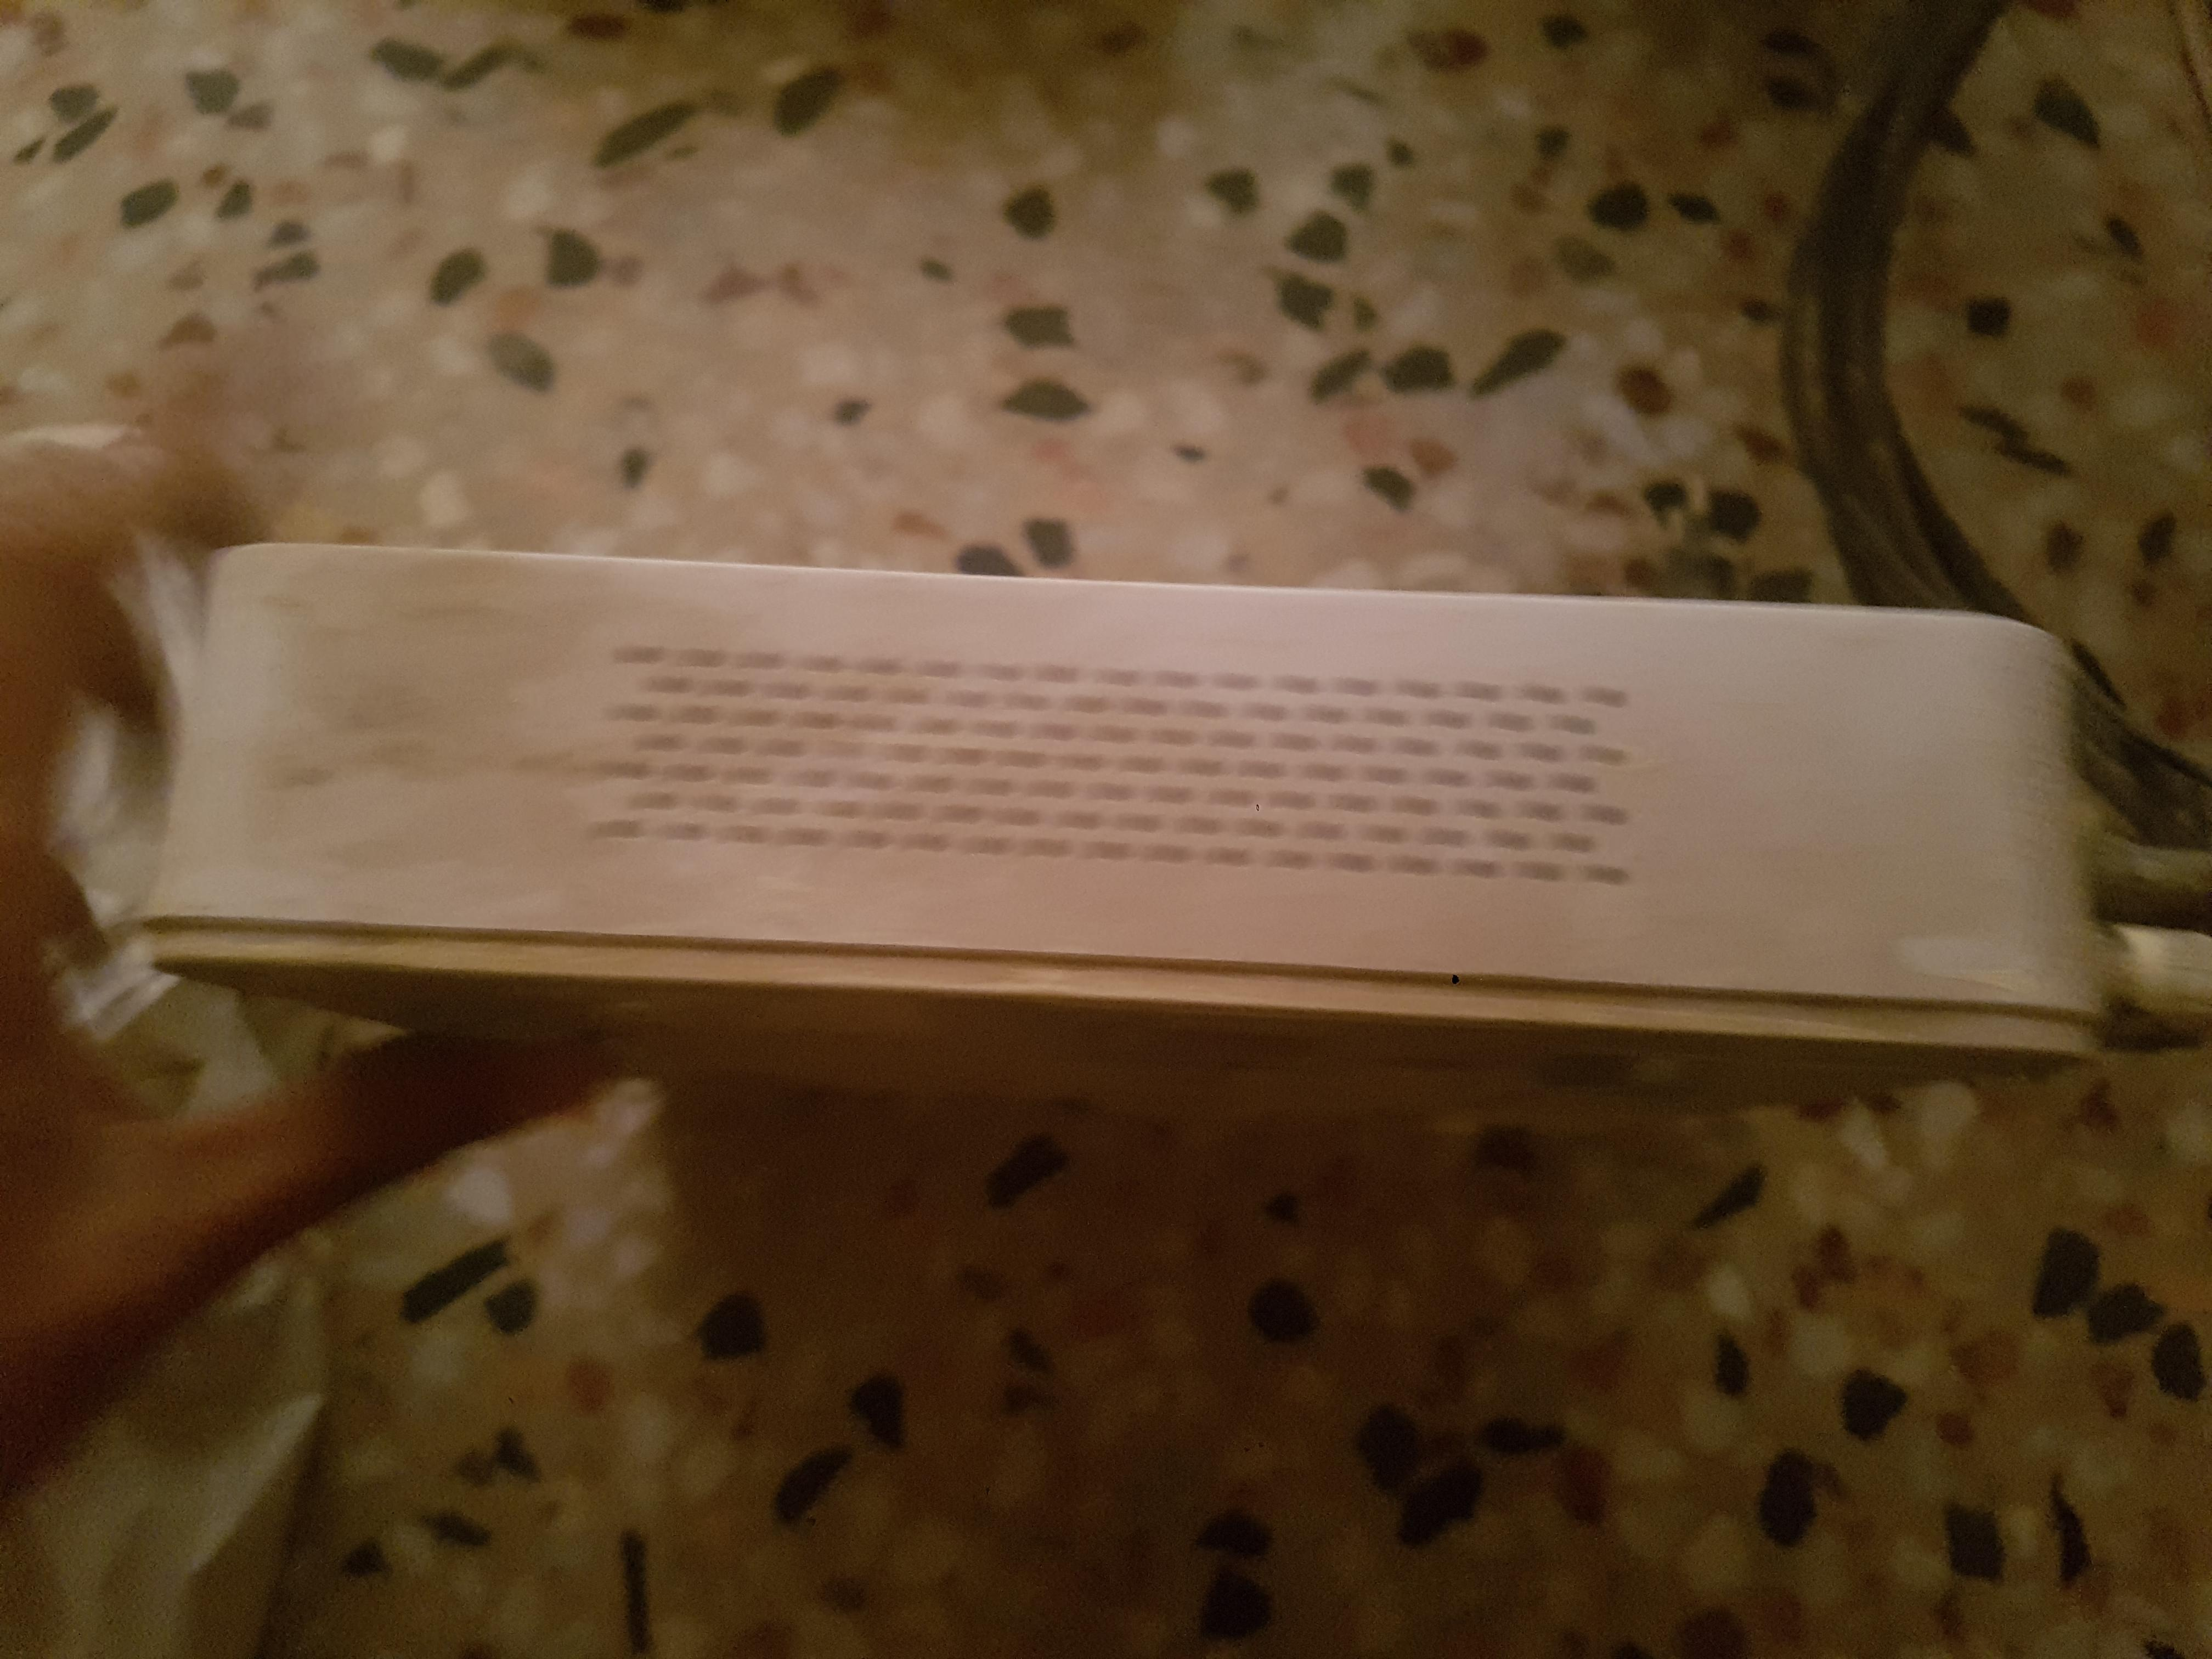electronic: (118, 528, 2189, 1115)
